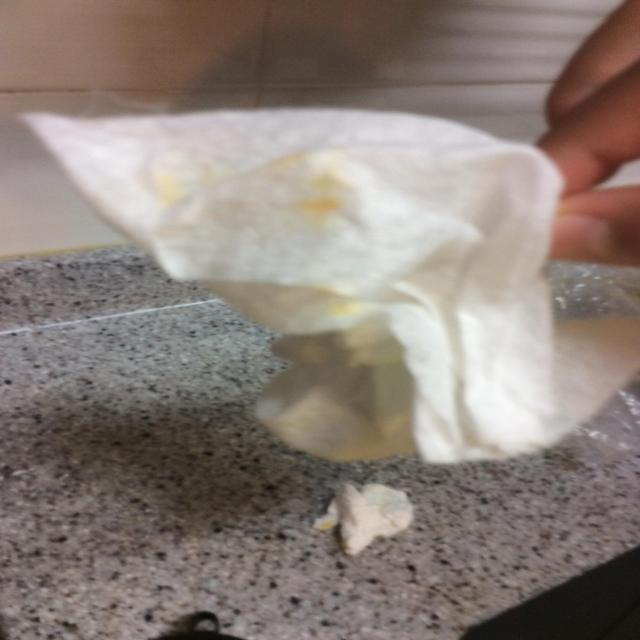litter: (10, 101, 639, 468), (312, 478, 417, 559)
